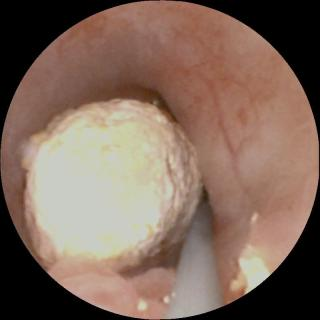stone: (22, 100, 202, 267)
tissue: (7, 6, 313, 280)
